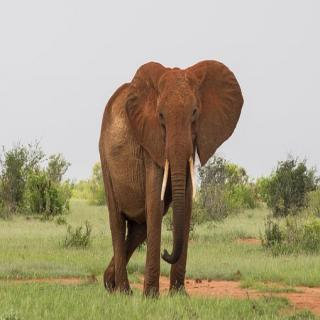Elephant: (96, 58, 246, 302)
